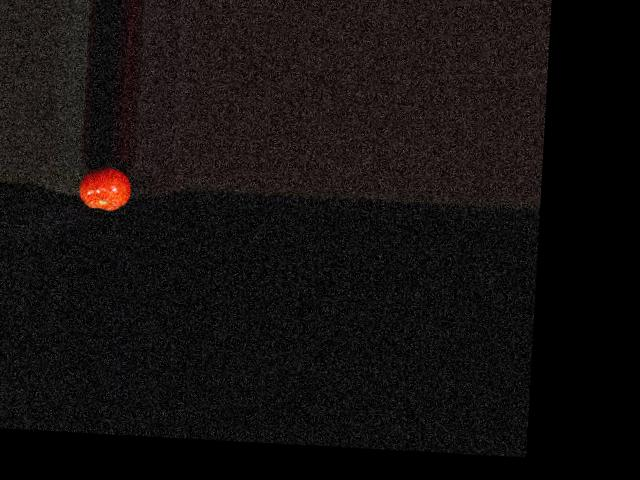tomato: (78, 166, 133, 211)
